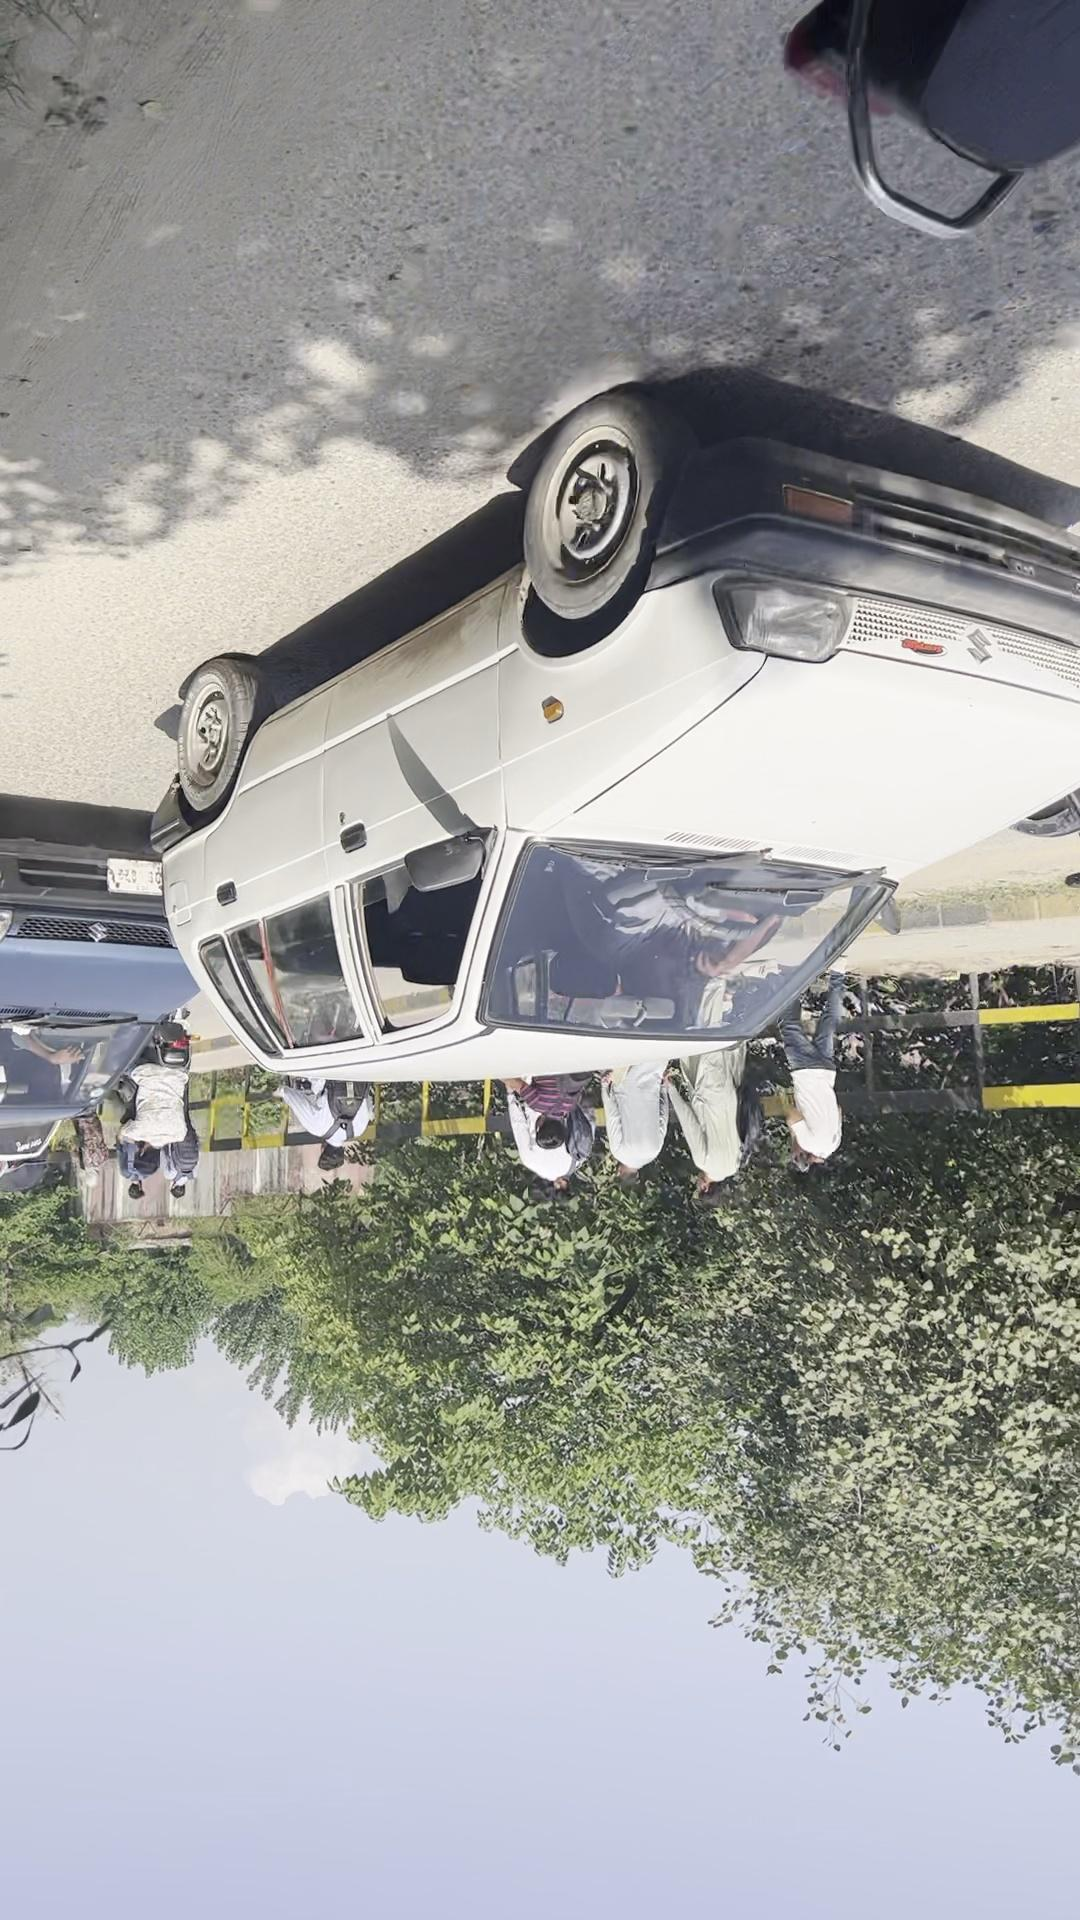windshield: (181, 851, 617, 1130)
